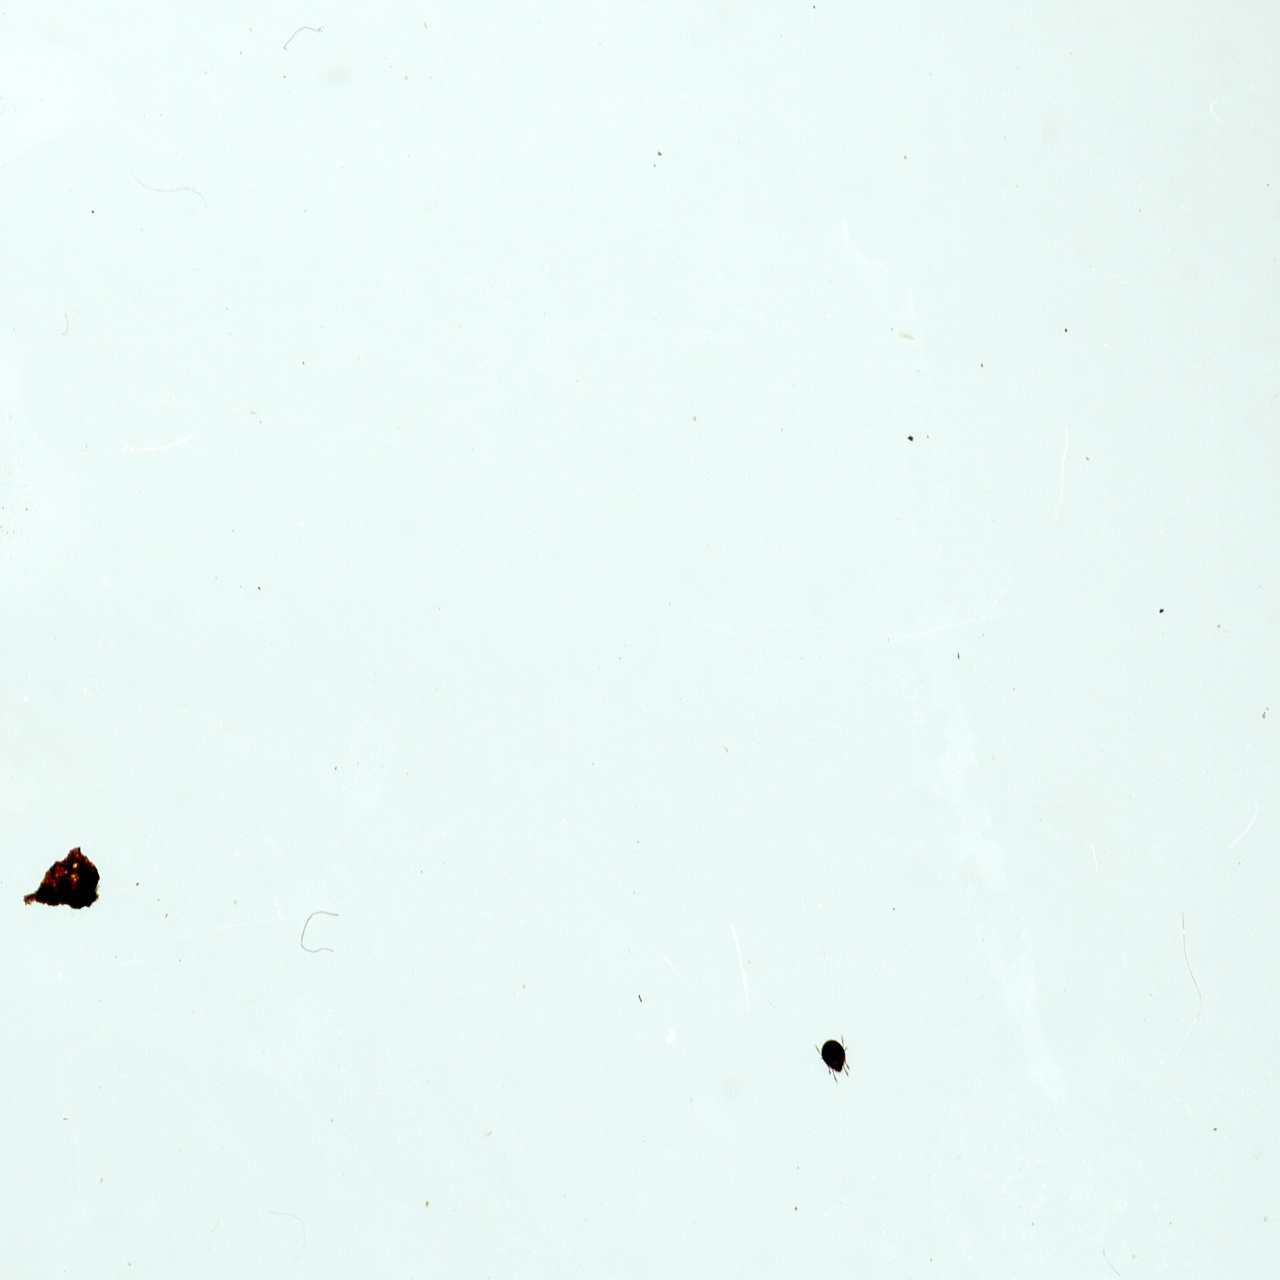arthropod: (812, 1036, 853, 1083)
